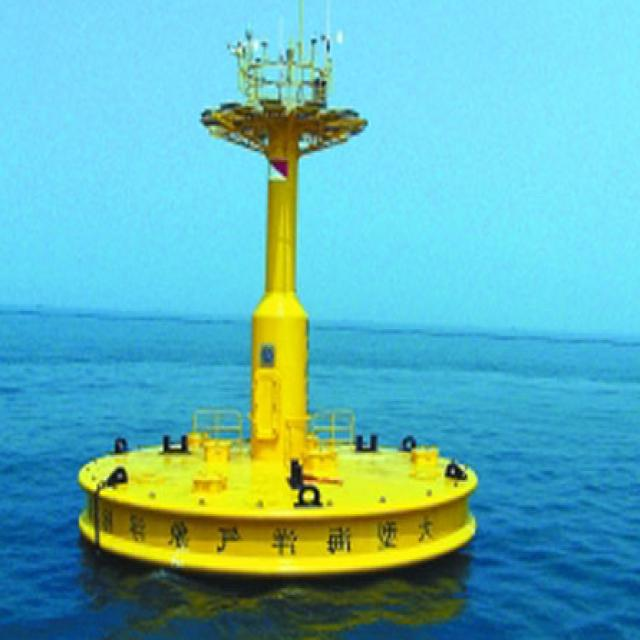buoy: (77, 0, 487, 575)
